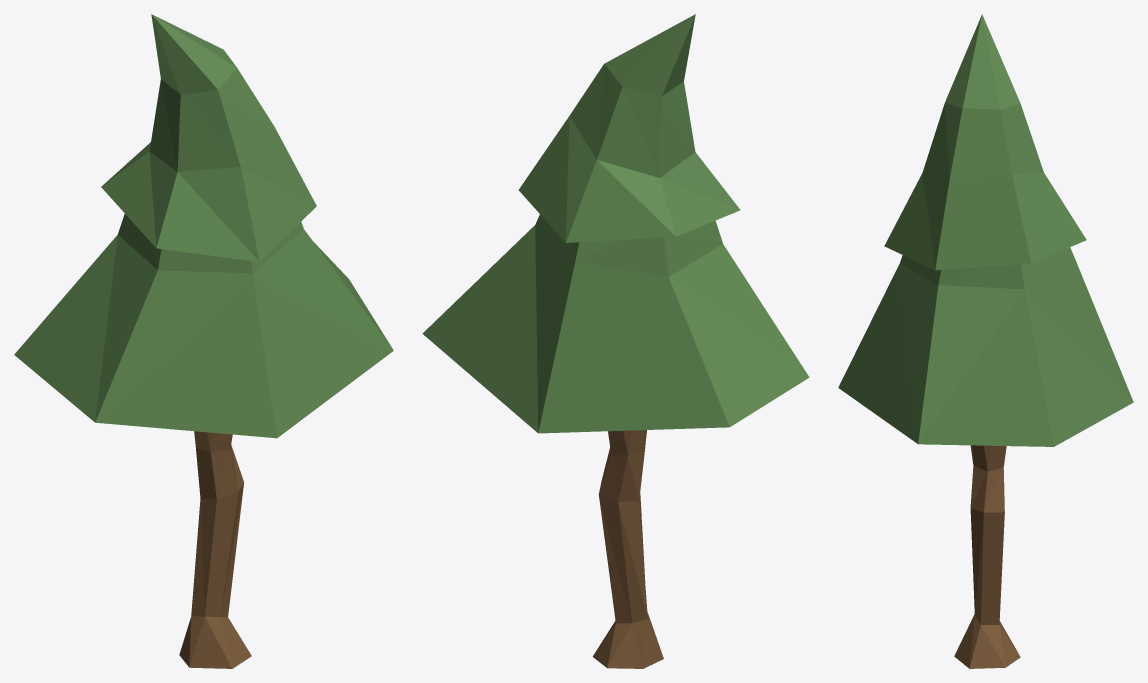
The model's file is tree3d-029.glb.
3 renders of one model, left to right at view 1: azimuth 30°, elevation 25°; view 2: azimuth 150°, elevation 25°; view 3: azimuth 270°, elevation 25°, orthographic. The views are drawn at different scales.
Visible parts, largest first — view 1: tree3d-029; view 2: tree3d-029; view 3: tree3d-029.
Boxes of the visible parts, <box> form: tree3d-029: <box>14,14,393,668</box>; tree3d-029: <box>422,14,809,668</box>; tree3d-029: <box>838,14,1133,668</box>.
Bounding box in the file's own units: 0.511 × 1 × 0.4375.
